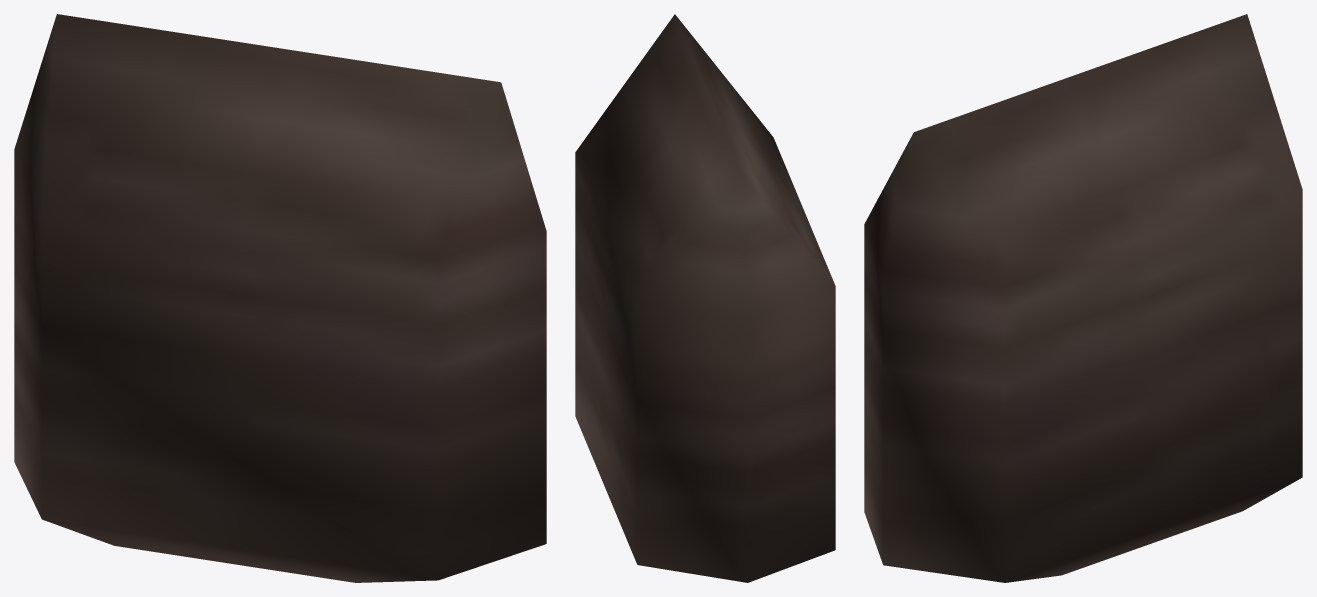
3 renders of one model, left to right at view 1: azimuth 30°, elevation 25°; view 2: azimuth 150°, elevation 25°; view 3: azimuth 270°, elevation 25°, orthographic. The views are drawn at different scales.
Visible parts, largest first — view 1: Soap_powder_02001_Hygiene_0; view 2: Soap_powder_02001_Hygiene_0; view 3: Soap_powder_02001_Hygiene_0.
Part boxes in pixels (x1,y1,x2,y2): Soap_powder_02001_Hygiene_0: [14, 14, 546, 582]; Soap_powder_02001_Hygiene_0: [575, 14, 835, 582]; Soap_powder_02001_Hygiene_0: [864, 14, 1302, 582].
Size of the model in its own units: 0.2175 by 0.2534 by 0.2284.
1 material, 1 textured.
